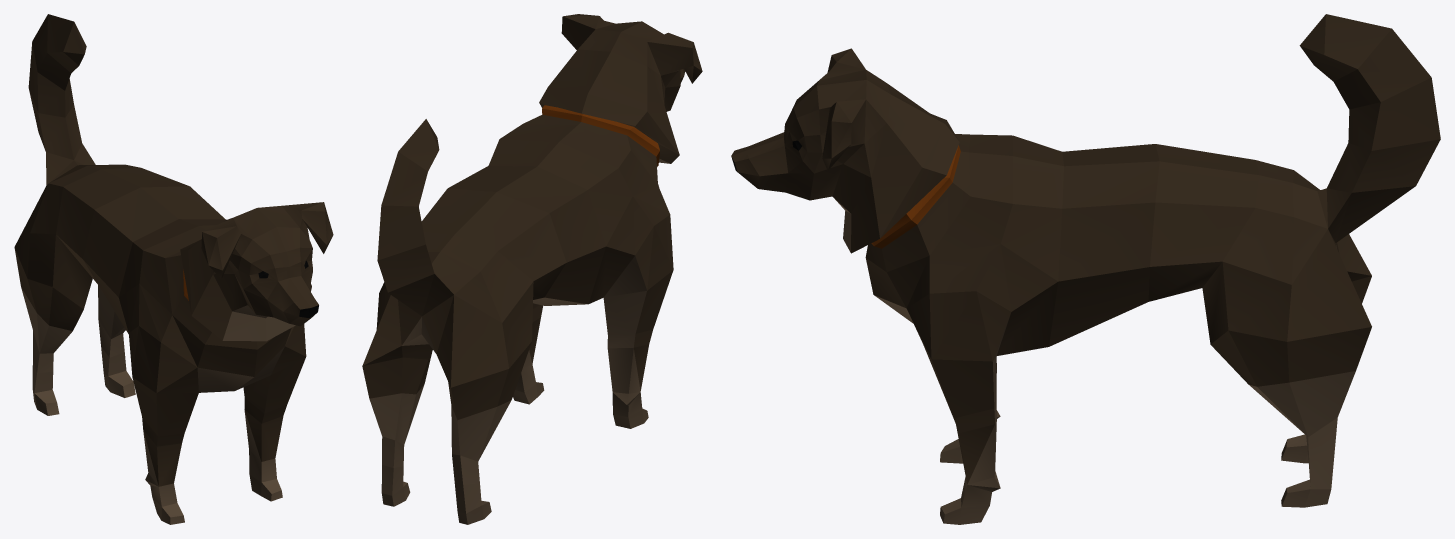
The model's file is dog.glb.
The picture shows the model from 3 angles, left to right: view 1: azimuth 30°, elevation 25°; view 2: azimuth 150°, elevation 25°; view 3: azimuth 270°, elevation 25°; orthographic projection. The views are drawn at different scales.
Parts seen in each view (by area): view 1: Hank.obj; view 2: Hank.obj; view 3: Hank.obj.
Part boxes in pixels (box(x1,y1,x2,y2)): Hank.obj: box(14, 14, 333, 524); Hank.obj: box(362, 14, 702, 524); Hank.obj: box(731, 14, 1440, 524).
Size of the model in its own units: 0.3803 by 0.9177 by 1.24.
